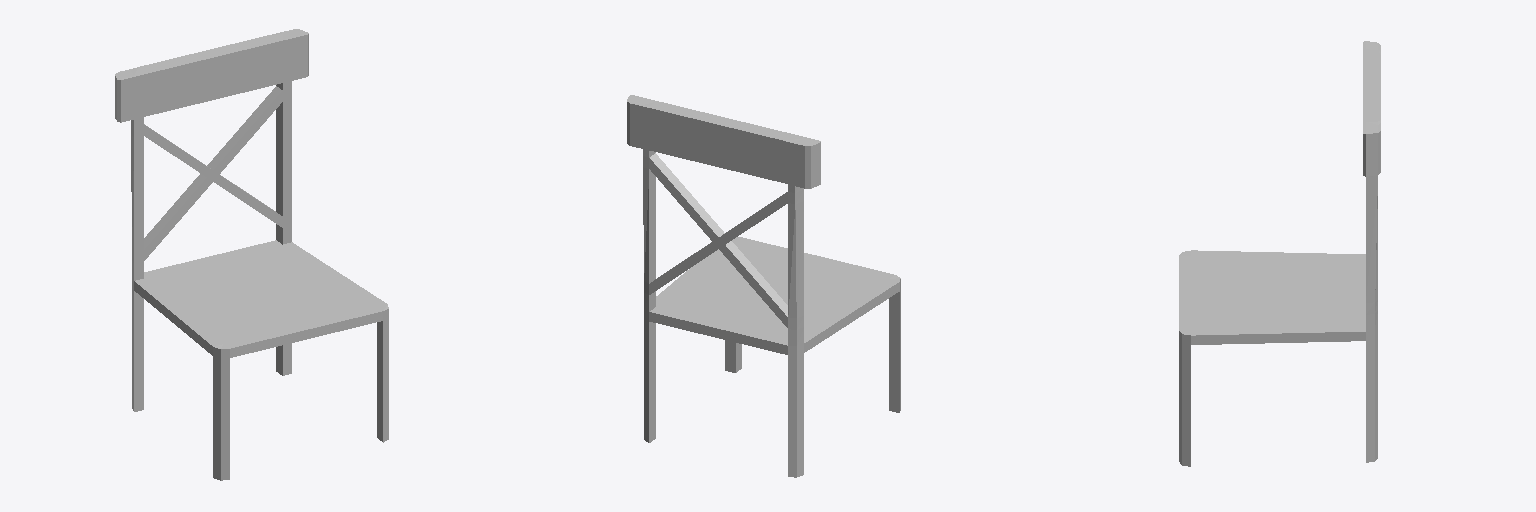
File: WoodenChair.obj
The picture shows the model from 3 angles: view 1: azimuth 30°, elevation 25°; view 2: azimuth 150°, elevation 25°; view 3: azimuth 270°, elevation 25°; orthographic projection.
Parts seen in each view (by area): view 1: pCube1; view 2: pCube1; view 3: pCube1.
Boxes of the visible parts, x1=… form: pCube1: x1=115, y1=29, x2=388, y2=480; pCube1: x1=627, y1=95, x2=900, y2=477; pCube1: x1=1179, y1=41, x2=1380, y2=466.
Bounding box in the file's own units: 17.47 × 29.36 × 15.97.